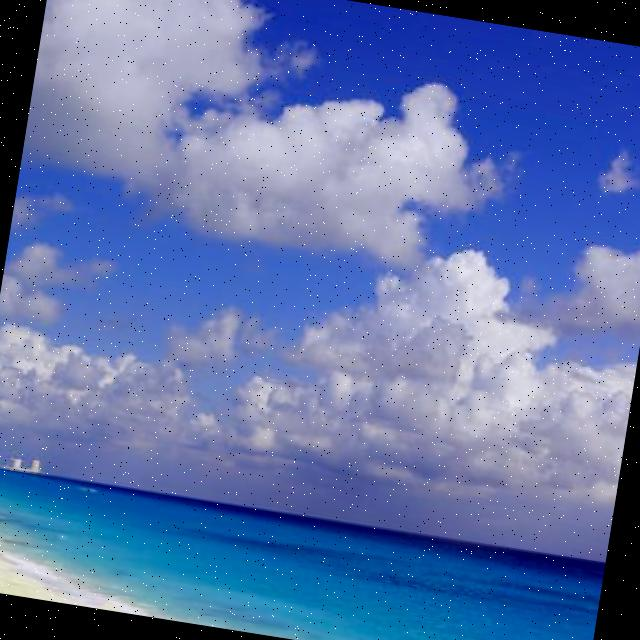Cc: (1, 1, 640, 539)
